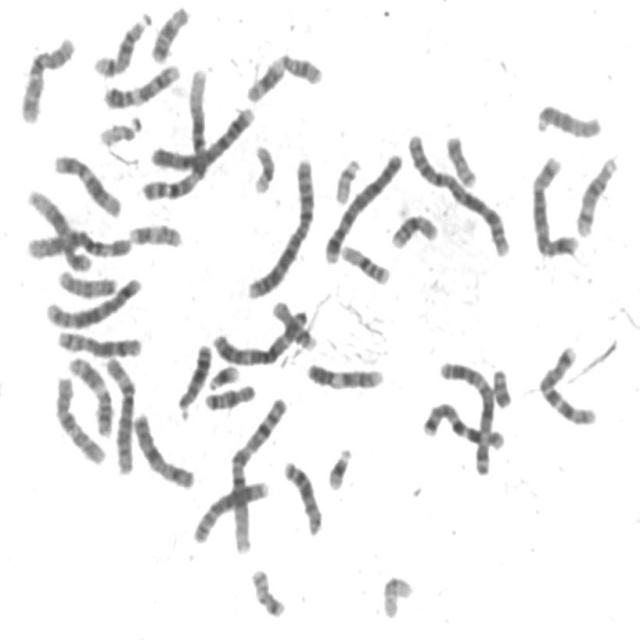A1: (138, 60, 213, 204), (226, 390, 290, 556)
A2: (402, 126, 512, 258), (241, 150, 318, 300)
A3: (434, 354, 498, 476), (206, 302, 312, 368)
B4: (318, 144, 404, 265), (146, 99, 258, 173)
B5: (40, 270, 145, 330), (526, 150, 581, 260)
C10: (15, 29, 77, 126), (49, 368, 109, 468)
C11: (239, 46, 325, 104), (64, 350, 114, 437)
C12: (22, 181, 95, 273), (48, 146, 124, 220)
C6: (99, 351, 138, 477), (20, 223, 136, 262)
C7: (533, 340, 600, 427), (418, 396, 507, 452)
C8: (187, 474, 271, 546), (51, 324, 144, 359)
C9: (98, 56, 182, 110), (301, 355, 387, 392)
D13: (278, 453, 324, 538), (172, 336, 214, 422)
D14: (89, 6, 152, 78), (571, 149, 621, 238)
D15: (530, 97, 604, 141), (53, 263, 120, 300)
E16: (336, 237, 392, 286), (386, 206, 440, 251)
E17: (269, 294, 318, 352), (124, 217, 184, 249)
E18: (145, 0, 191, 63), (200, 377, 258, 412)
F19: (377, 568, 416, 620), (247, 136, 278, 196)
F20: (440, 128, 480, 189), (246, 562, 288, 620)
G21: (322, 440, 354, 492), (202, 358, 242, 393)
G22: (329, 150, 363, 205), (94, 110, 143, 148)
X: (127, 406, 198, 492)
Y: (487, 361, 514, 410)
